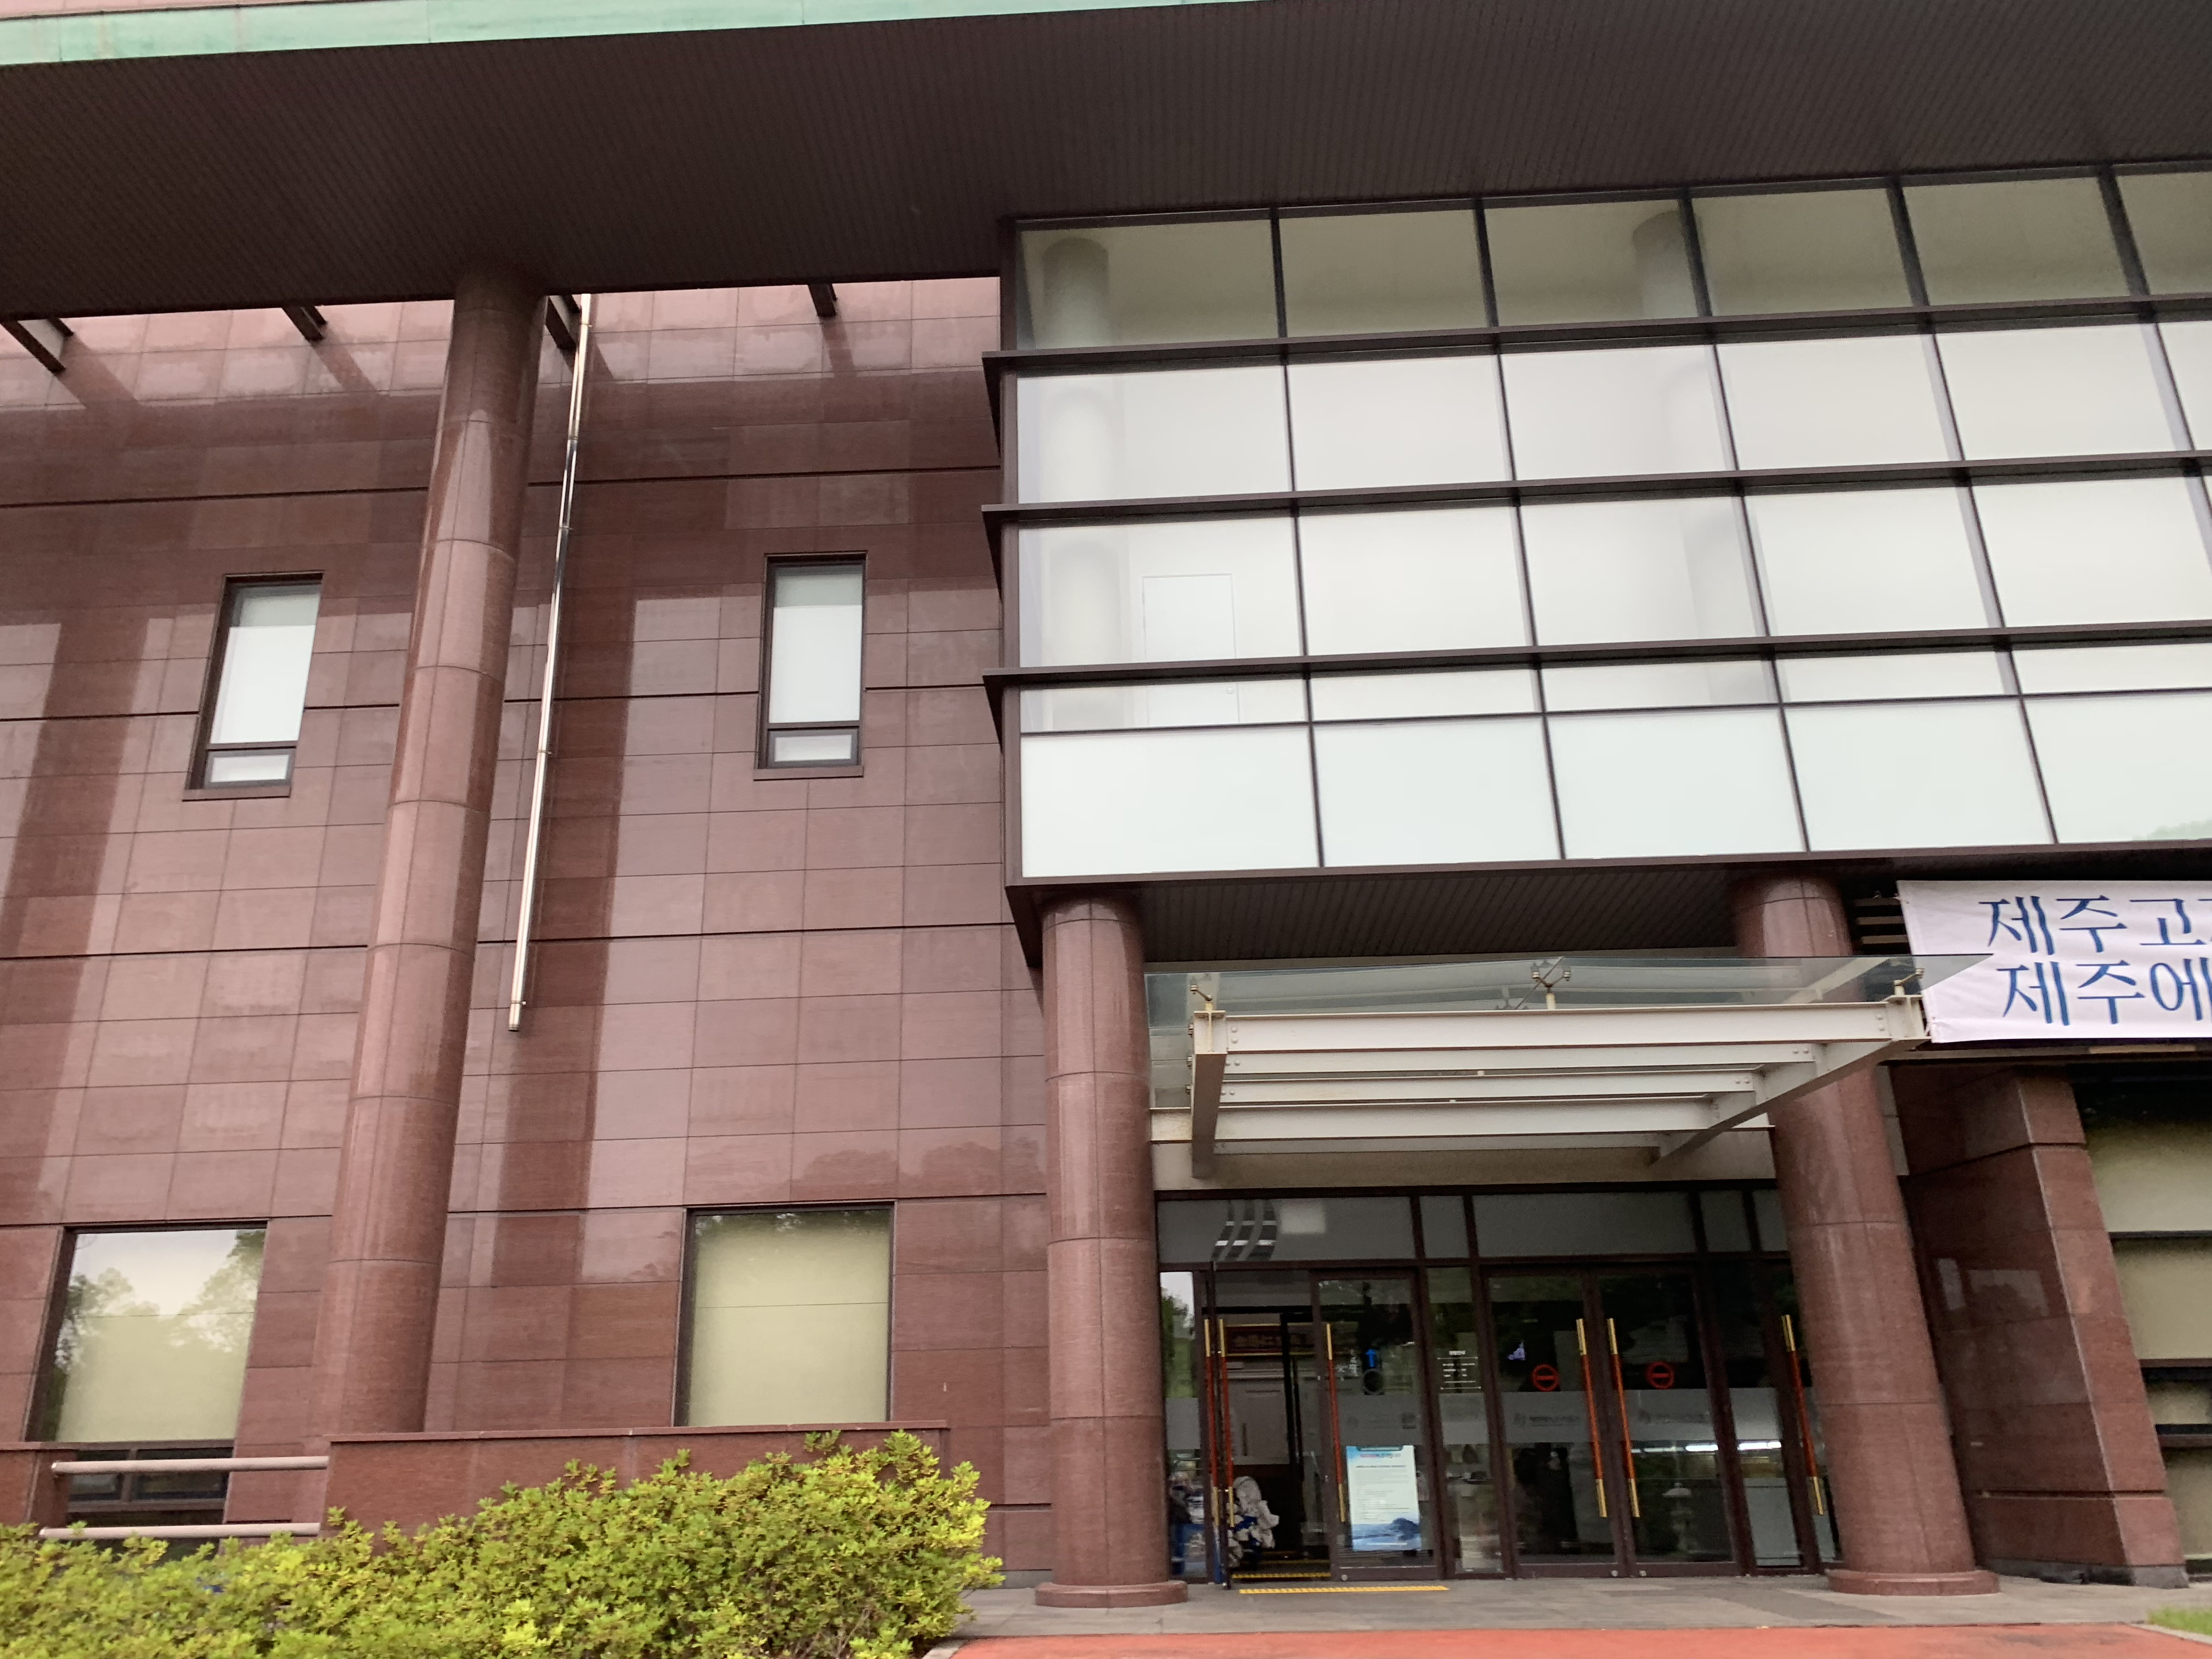Museum: (620, 267, 2090, 1617)
